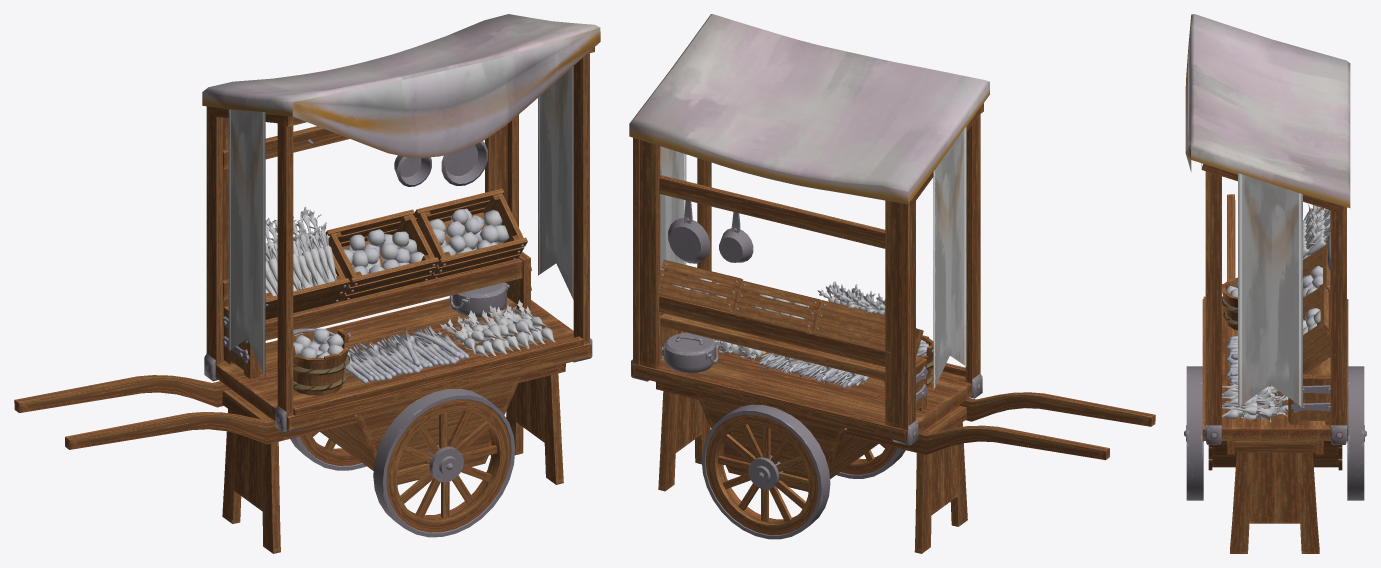
File: Stall_Vegetables_Full.fbx
3 renders of one model, left to right at view 1: azimuth 30°, elevation 25°; view 2: azimuth 150°, elevation 25°; view 3: azimuth 270°, elevation 25°, orthographic. The views are drawn at different scales.
Parts seen in each view (by area): view 1: Stall_Vegetables_Full; view 2: Stall_Vegetables_Full; view 3: Stall_Vegetables_Full.
Boxes of the visible parts, left/top/right/bottom form: Stall_Vegetables_Full: left=14, top=14, right=600, bottom=553; Stall_Vegetables_Full: left=629, top=14, right=1155, bottom=553; Stall_Vegetables_Full: left=1184, top=14, right=1366, bottom=553.
Size of the model in its own units: 302 by 266 by 106.
